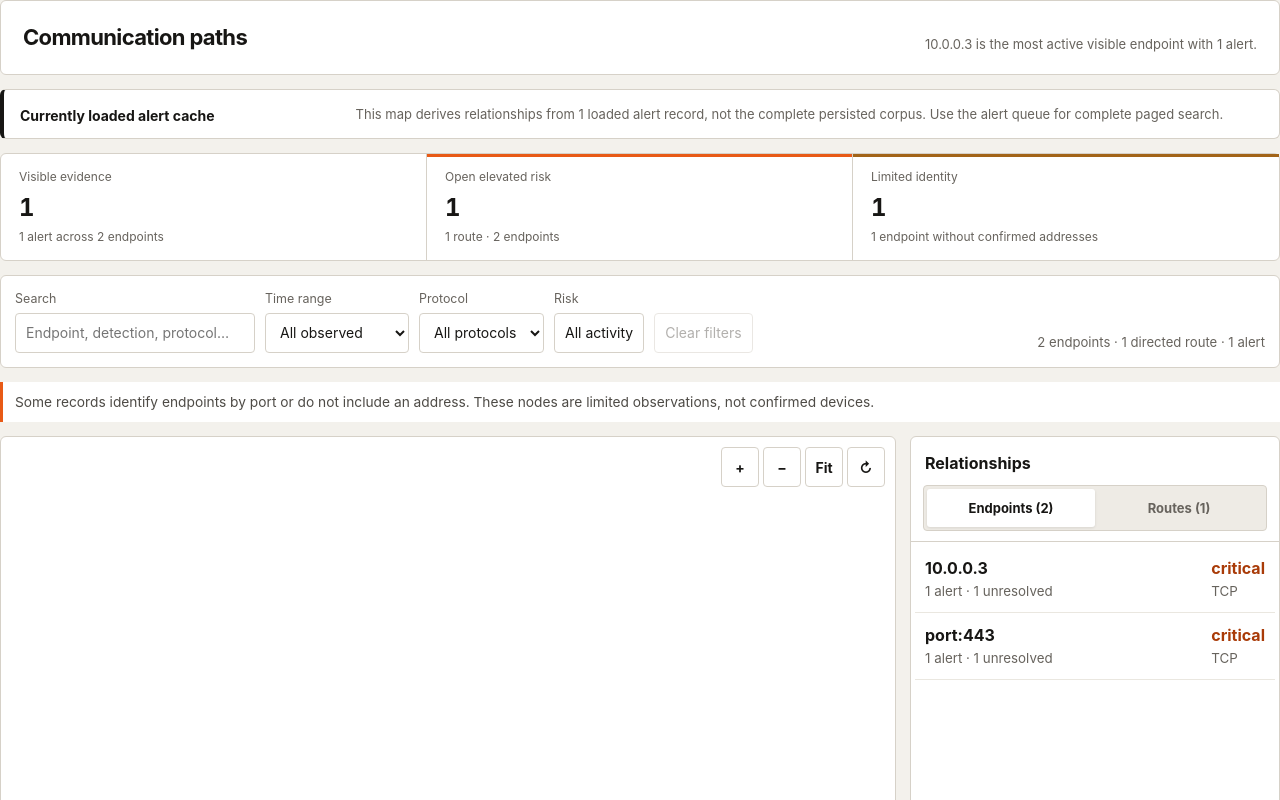
TopologyWorkspace › provides an accessible endpoint and directed-route investigation surface
Expected: the text "These nodes are limited observations" is shown, left=15, top=394, right=874, bottom=410
Expected: the text "Currently loaded alert cache" is shown, left=20, top=107, right=215, bottom=124
Click the tab "Routes (1)": (1179, 508) left=1095, top=489, right=1263, bottom=527
(page scrolled)
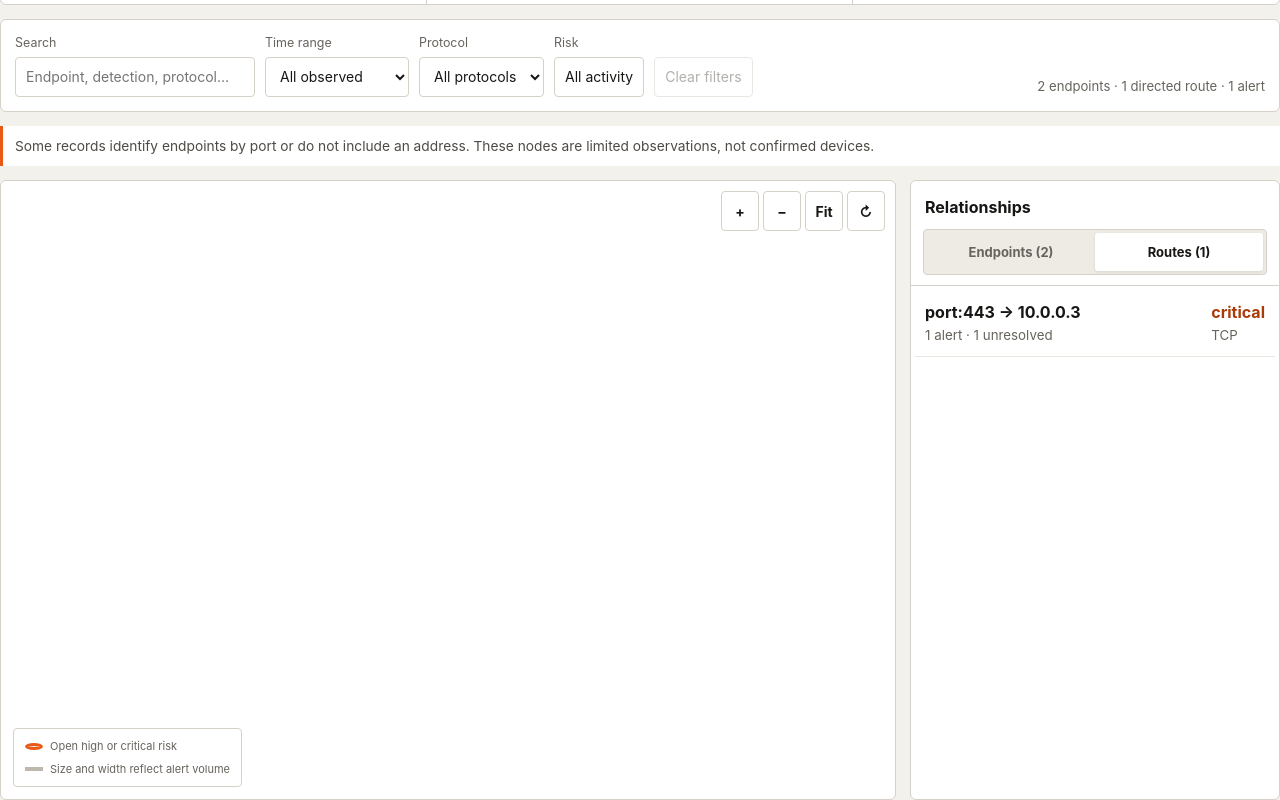
Expected: the picture named "Directed network map with 2 endpoints and 1 route" is shown, left=1, top=181, right=895, bottom=799
Expected: the text "port:443 → 10.0.0.3" is shown, left=925, top=302, right=1081, bottom=322
